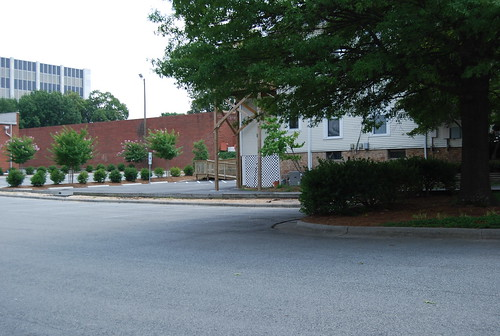building: (225, 60, 470, 185), (1, 58, 85, 116)
street: (5, 195, 500, 336)
tree: (164, 1, 493, 197), (18, 87, 116, 127), (123, 128, 171, 183), (58, 131, 91, 183)
